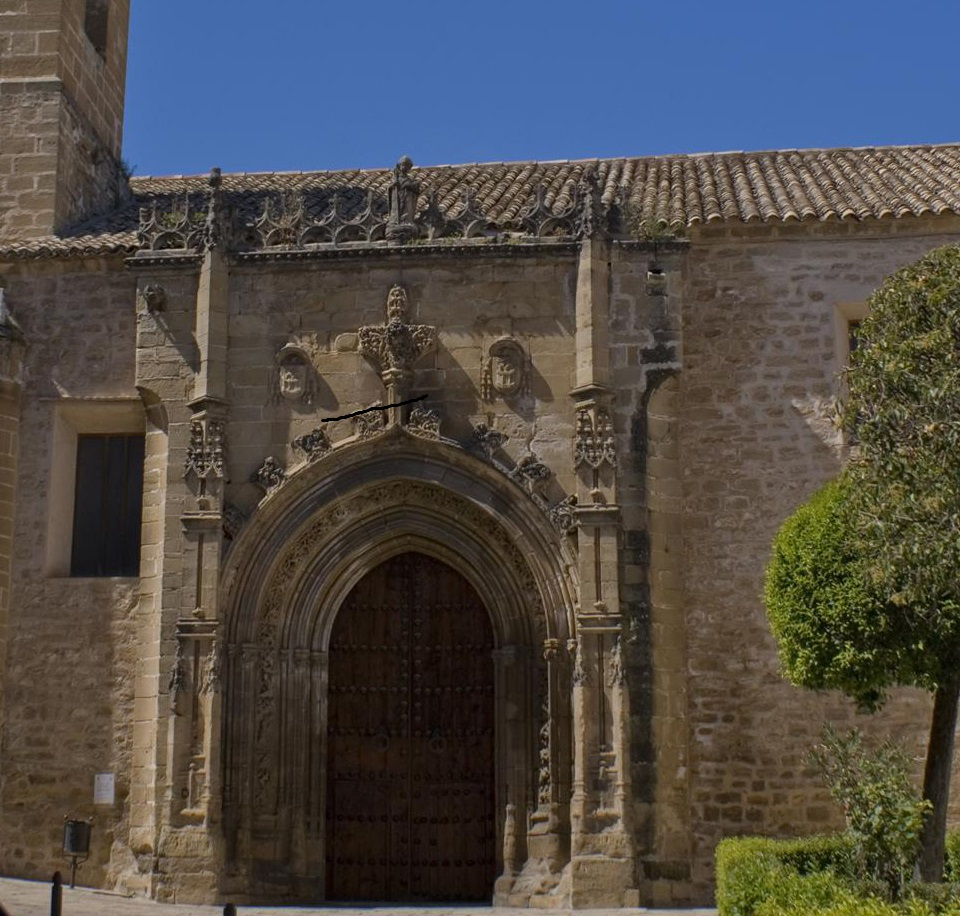arco-apuntado: (314, 531, 515, 668)
